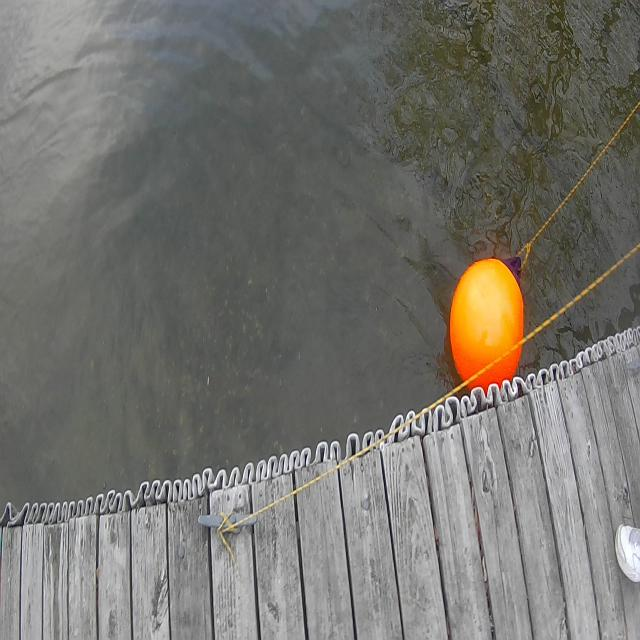Buoy: (442, 243, 532, 397)
